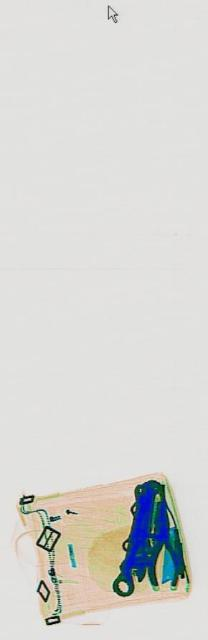Pliers: (145, 497, 176, 593)
Wrench: (109, 454, 156, 616)
